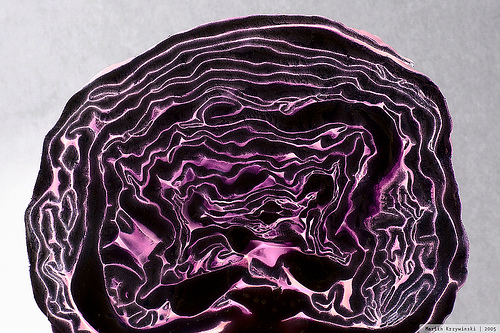cabbage: (22, 11, 471, 332)
